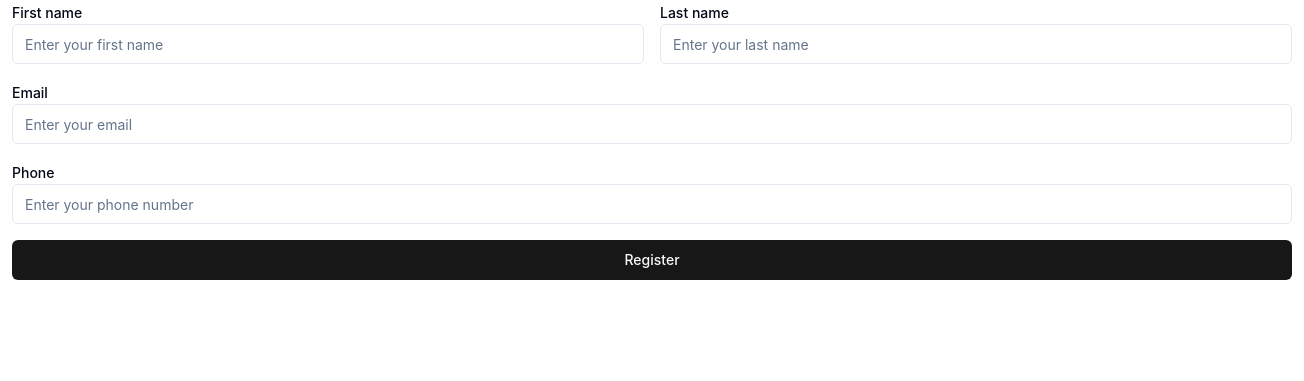
Test: RegisterForm › shows every validation message and does not submit an empty form
The image size is (1304, 381).
Click the button "Register" at x=652, y=260, box [12, 240, 1292, 280]
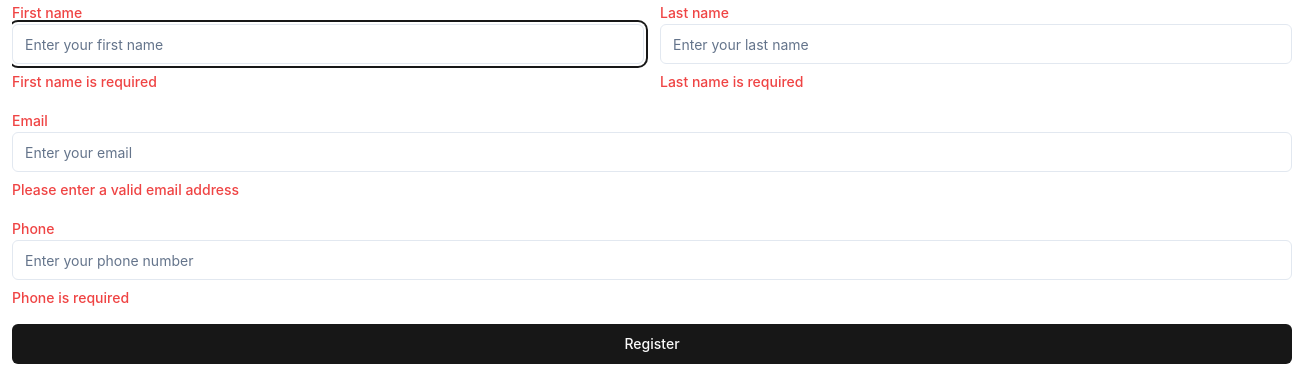
Check: the text "First name is required" is shown, box [12, 73, 157, 90]
Check: the text "Last name is required" is shown, box [660, 73, 804, 90]
Check: the text "Please enter a valid email address" is shown, box [12, 181, 239, 198]
